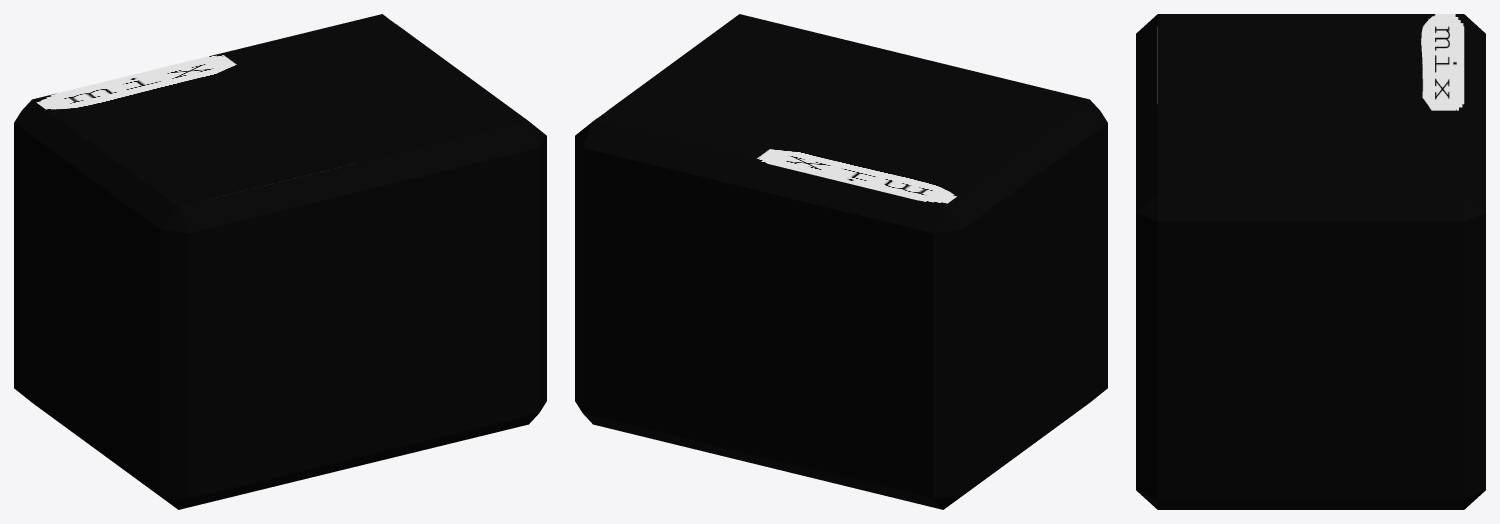
Rendered from ingot_node.glb.
3 views of the same model, side by side, from view 1: azimuth 30°, elevation 25°; view 2: azimuth 150°, elevation 25°; view 3: azimuth 270°, elevation 25° (orthographic). The views are drawn at different scales.
Visible parts, largest first — view 1: IngotNode; view 2: IngotNode; view 3: IngotNode.
Boxes of the visible parts, box(x1,y1,x2,y2) form: IngotNode: box(14, 14, 546, 509); IngotNode: box(575, 14, 1107, 509); IngotNode: box(1136, 14, 1485, 509).
Bounding box in the file's own units: 0.8 × 0.6 × 0.6.
1 material, 1 textured.
